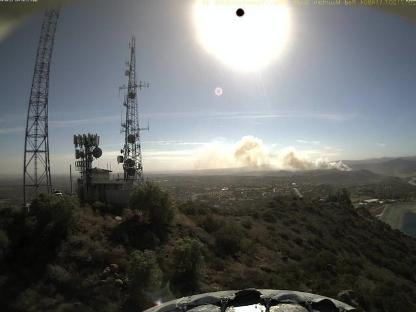smoke: (196, 132, 356, 172)
